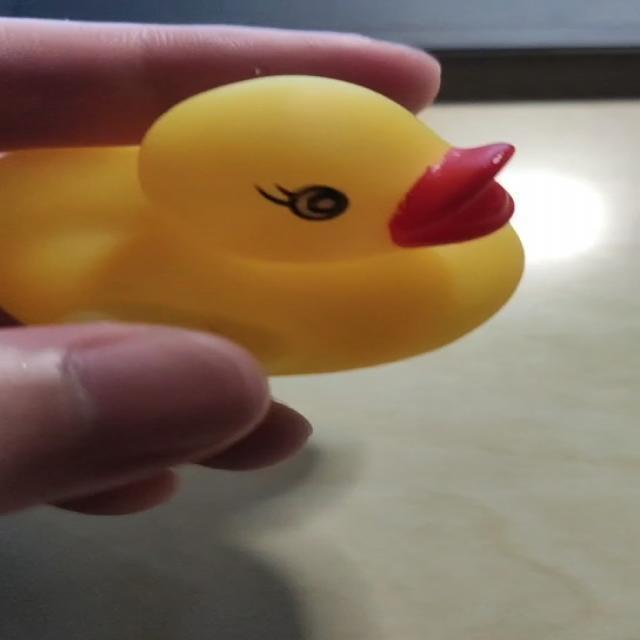rubber-duck: (0, 75, 521, 372)
